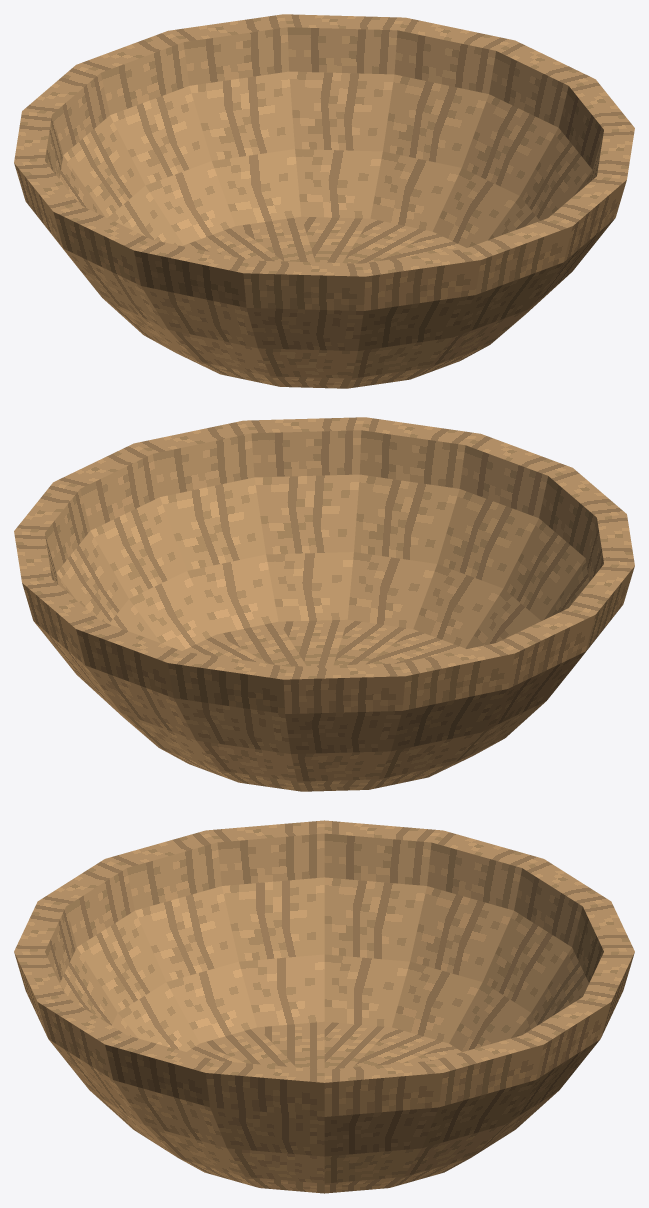
File: bowl_wood.glb
3 renders of one model, top to bottom at view 1: azimuth 30°, elevation 25°; view 2: azimuth 150°, elevation 25°; view 3: azimuth 270°, elevation 25°, orthographic.
Parts seen in each view (by area): view 1: block_carved wooden bowl; view 2: block_carved wooden bowl; view 3: block_carved wooden bowl.
Boxes of the visible parts, x1,y1,x2,y2 form: block_carved wooden bowl: [14, 14, 634, 388]; block_carved wooden bowl: [14, 417, 634, 791]; block_carved wooden bowl: [14, 820, 634, 1193].
Bounding box in the file's own units: 0.128 × 0.0387 × 0.128.
1 material, 1 textured.
